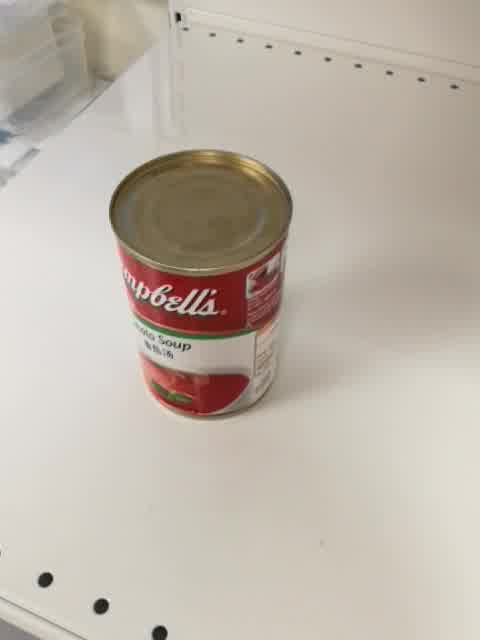tomatosoup: (112, 149, 292, 419)
